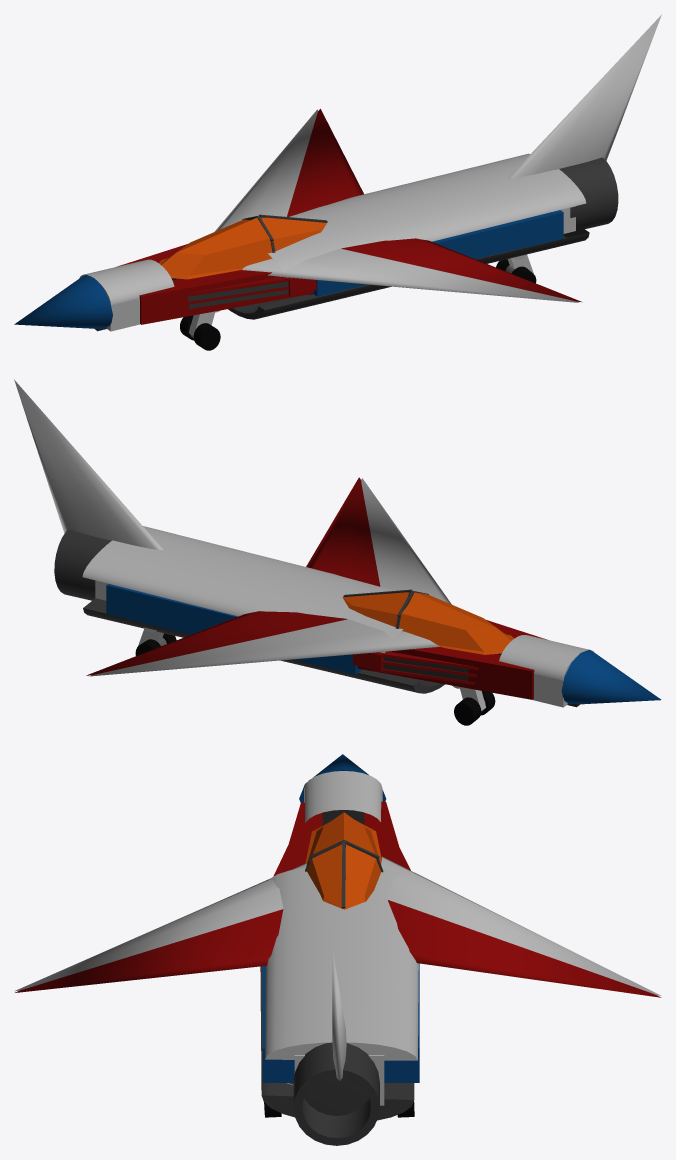
File: jet.obj
3 renders of one model, top to bottom at view 1: azimuth 30°, elevation 25°; view 2: azimuth 150°, elevation 25°; view 3: azimuth 270°, elevation 25°, orthographic. The views are drawn at different scales.
Visible parts, largest first — view 1: Cylinder2, Cone3, Cone2, Box29, Cone4, Cone5, Box37, Cone1, Box15, Cone, Cylinder4, Cylinder17 (+6 smaller); view 2: Cylinder2, Cone3, Cone1, Cone4, Box29, Box37, Cone5, Cone2, Box9, Cone, Cylinder4, Cylinder (+6 smaller); view 3: Cylinder2, Cone4, Cone5, Cylinder4, Cone1, Cone2, Box30, Cylinder, Cylinder17, Box37, Box29, Box15 (+2 smaller).
Boxes of the visible parts, bbox=[...] form: Cylinder2: bbox=[268, 153, 586, 277]; Cone3: bbox=[508, 14, 661, 178]; Cone2: bbox=[242, 248, 578, 302]; Box29: bbox=[159, 217, 273, 279]; Cone4: bbox=[287, 109, 363, 216]; Cone5: bbox=[341, 238, 582, 302]; Box37: bbox=[309, 210, 563, 296]; Cone1: bbox=[214, 109, 318, 231]; Box15: bbox=[139, 270, 313, 324]; Cone: bbox=[14, 275, 112, 329]; Cylinder4: bbox=[555, 157, 618, 233]; Cylinder17: bbox=[228, 224, 589, 319]; Cylinder2: bbox=[82, 526, 403, 653]; Cone3: bbox=[14, 379, 163, 550]; Cone1: bbox=[89, 619, 439, 676]; Cone4: bbox=[86, 611, 346, 675]; Box29: bbox=[399, 592, 513, 654]; Box37: bbox=[106, 583, 362, 674]; Cone5: bbox=[306, 477, 380, 586]; Cone2: bbox=[361, 478, 451, 604]; Box9: bbox=[357, 647, 534, 699]; Cone: bbox=[561, 649, 661, 704]; Cylinder4: bbox=[54, 529, 111, 600]; Cylinder: bbox=[499, 635, 594, 680]; Cylinder2: bbox=[265, 867, 418, 1060]; Cone4: bbox=[388, 900, 661, 997]; Cone5: bbox=[15, 909, 283, 992]; Cylinder4: bbox=[293, 1042, 379, 1145]; Cone1: bbox=[381, 856, 661, 995]; Cone2: bbox=[14, 863, 306, 991]; Box30: bbox=[307, 844, 381, 909]; Cylinder: bbox=[304, 771, 382, 822]; Cylinder17: bbox=[260, 966, 414, 1120]; Box37: bbox=[262, 963, 419, 1082]; Box29: bbox=[305, 812, 381, 865]; Box15: bbox=[280, 802, 322, 873].
Bounding box in the file's own units: 42.33 × 13.82 × 30.33.
